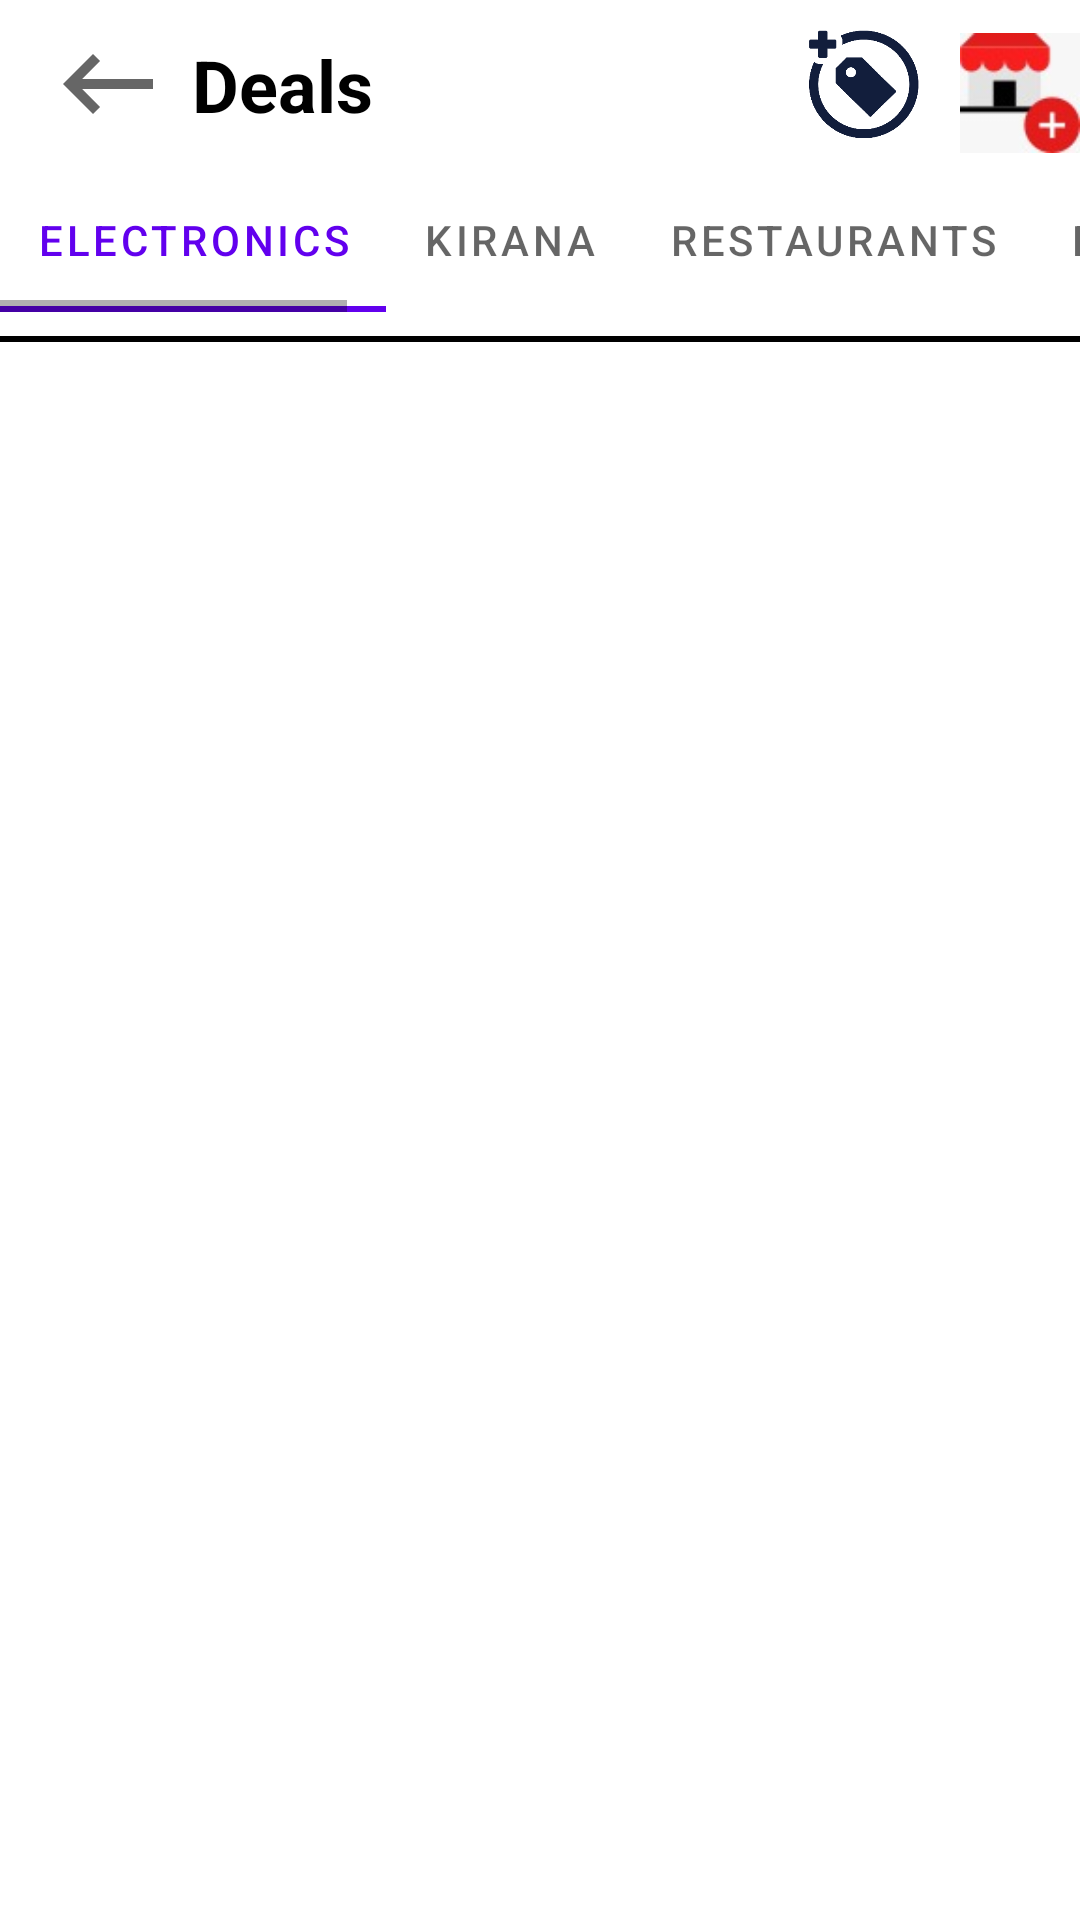

Icons on this 1080px x 1920px Android screen, each with the point to tap as (x=x, y=y):
add deals: (x=864, y=84)
add market: (x=1020, y=93)
keyboard backspace: (x=108, y=84)
